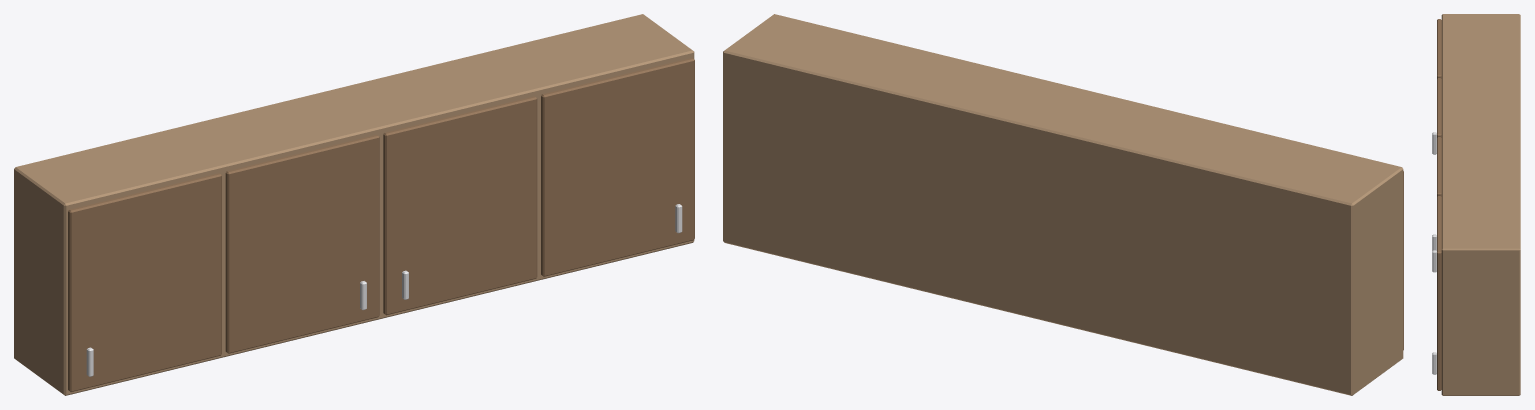
The model's file is kitchen_wall.fbx.
3 views of the same model, side by side, from view 1: azimuth 30°, elevation 25°; view 2: azimuth 150°, elevation 25°; view 3: azimuth 270°, elevation 25° (orthographic). The views are drawn at different scales.
Parts seen in each view (by area): view 1: Cabinets; view 2: Cabinets; view 3: Cabinets.
Boxes of the visible parts, x1,y1,x2,y2 form: Cabinets: (14, 14, 694, 395); Cabinets: (723, 14, 1403, 395); Cabinets: (1432, 14, 1520, 395).
Bounding box in the file's own units: 2.4 × 0.712 × 0.38.
